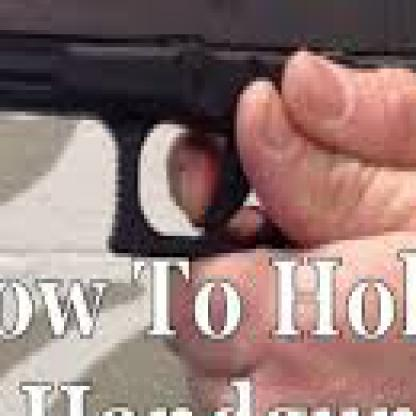gun: (0, 0, 414, 275)
